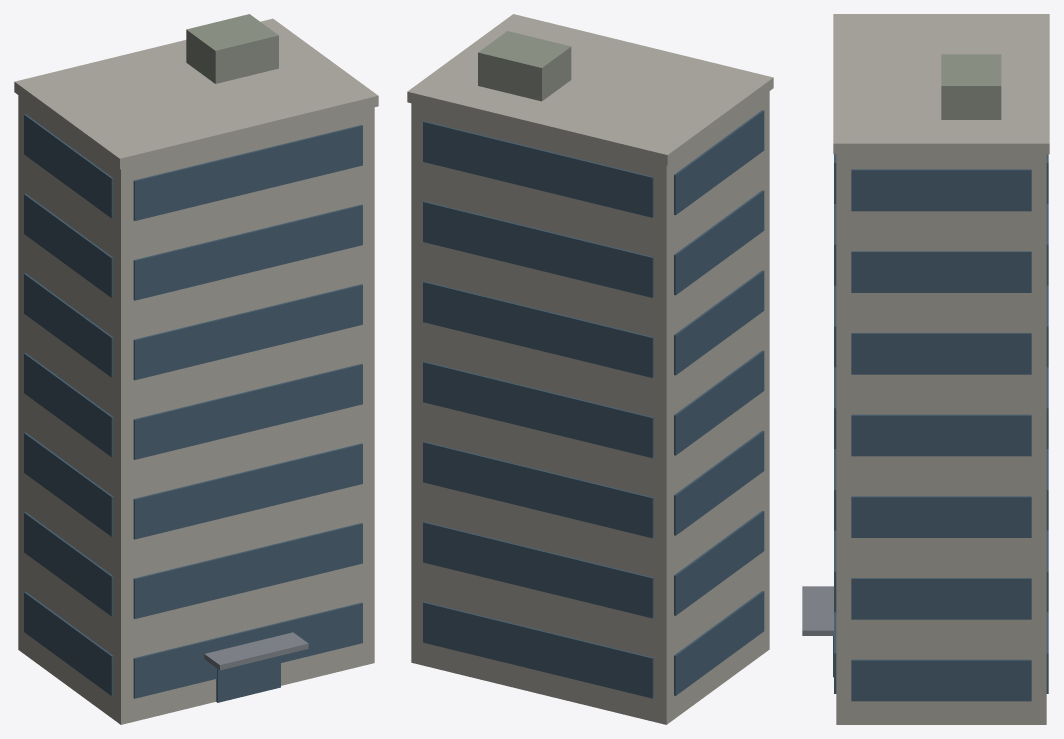
Rendered from office_tall.glb.
3 renders of one model, left to right at view 1: azimuth 30°, elevation 25°; view 2: azimuth 150°, elevation 25°; view 3: azimuth 270°, elevation 25°, orthographic. The views are drawn at different scales.
Parts seen in each view (by area): view 1: office_tall_mesh; view 2: office_tall_mesh; view 3: office_tall_mesh.
Boxes of the visible parts, box(x1,y1,x2,y2) form: office_tall_mesh: box(14, 14, 378, 724); office_tall_mesh: box(407, 14, 773, 724); office_tall_mesh: box(802, 14, 1049, 724).
Bounding box in the file's own units: 0.204 × 0.453 × 0.1645.
